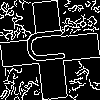U: (25, 25, 75, 66)
